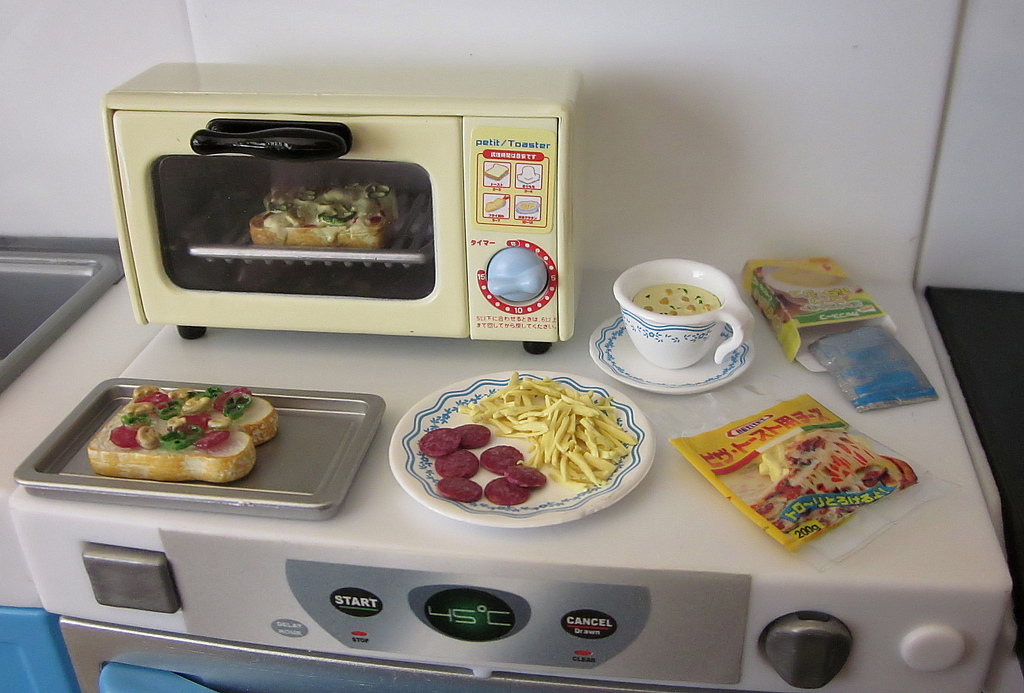slice of bread: (131, 382, 285, 439), (249, 212, 412, 260), (94, 432, 252, 479)
